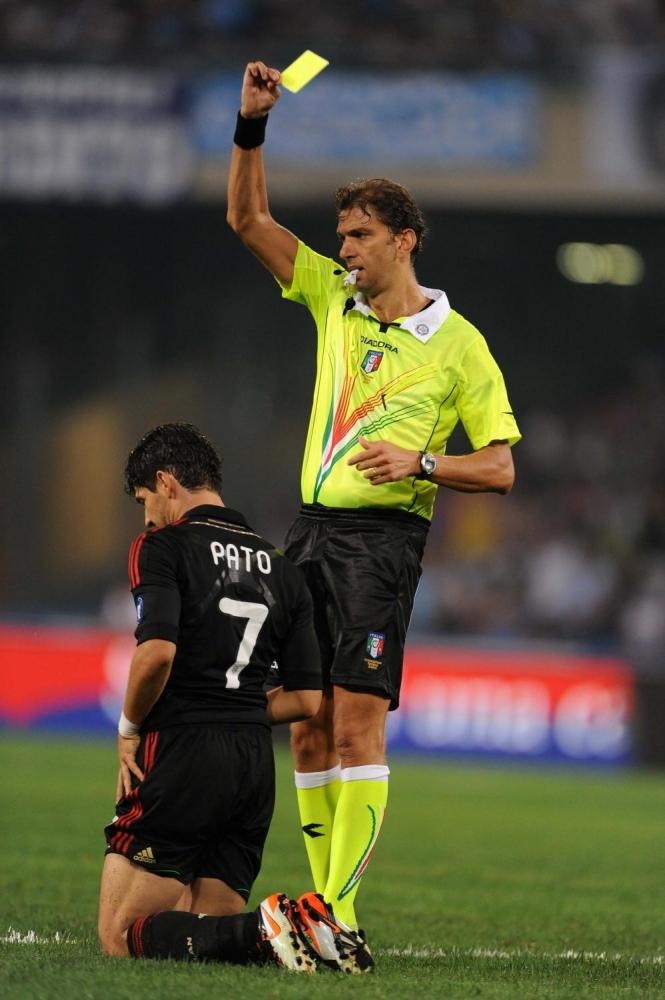yellow_card: (212, 25, 355, 132)
